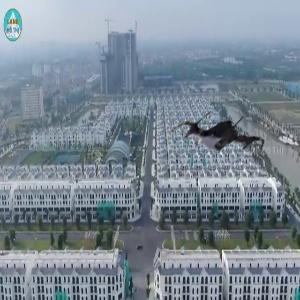drone: (181, 92, 267, 178)
